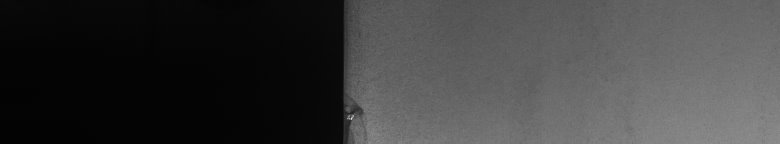hb: (352, 92, 372, 136)
